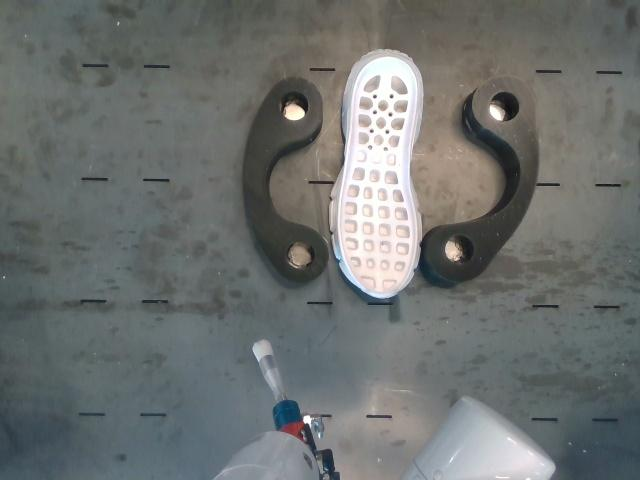shoes: (339, 57, 416, 298)
